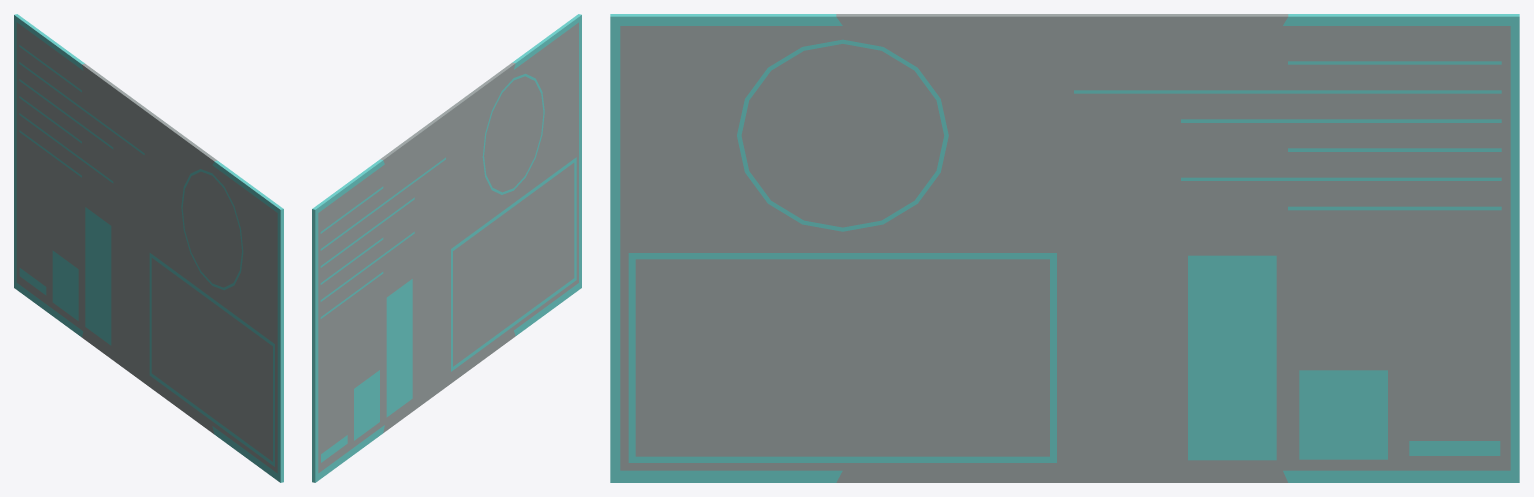
The model's file is screen1.fbx.
3 renders of one model, left to right at view 1: azimuth 30°, elevation 25°; view 2: azimuth 150°, elevation 25°; view 3: azimuth 270°, elevation 25°, orthographic. The views are drawn at different scales.
Parts seen in each view (by area): view 1: screen1; view 2: screen1; view 3: screen1.
Part boxes in pixels (x1,y1,x2,y2): screen1: (14, 14, 283, 482); screen1: (312, 14, 581, 482); screen1: (610, 14, 1519, 482).
Bounding box in the file's own units: 0.0273 × 3.71 × 2.1.
